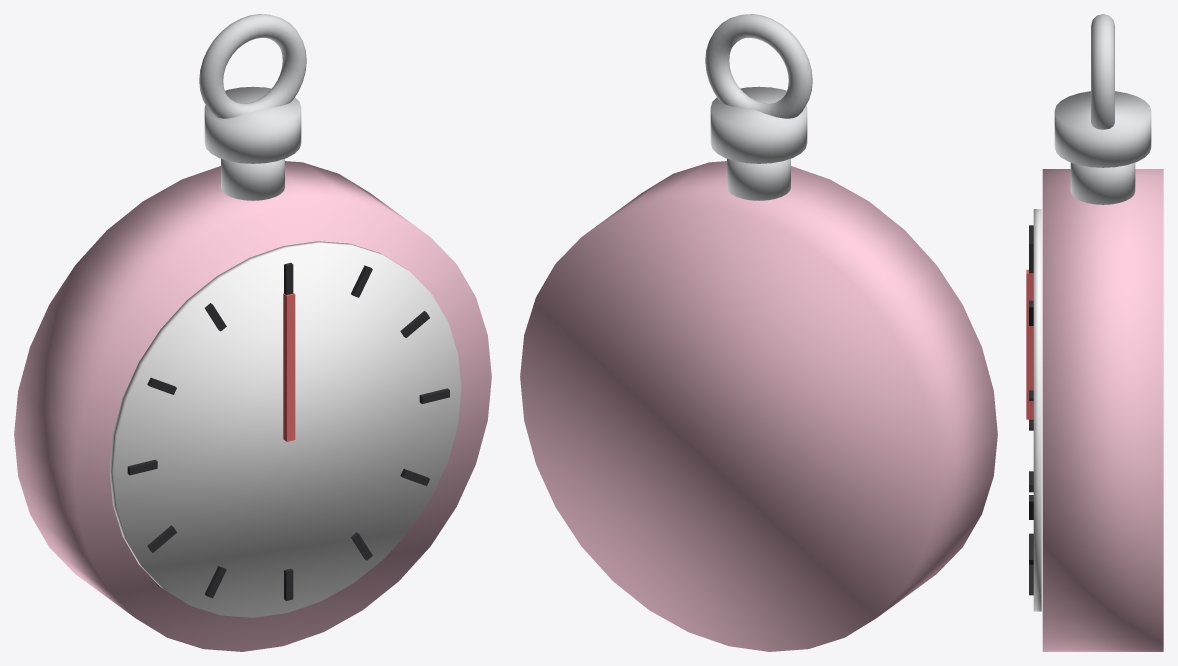
File: stopwatch.glb
3 views of the same model, side by side, from view 1: azimuth 30°, elevation 25°; view 2: azimuth 150°, elevation 25°; view 3: azimuth 270°, elevation 25° (orthographic).
Visible parts, largest first — view 1: sw_face, sw_body, sw_ring, sw_button, sw_crown, sw_hand; view 2: sw_body, sw_ring, sw_button, sw_crown; view 3: sw_body, sw_button, sw_face, sw_ring, sw_crown, sw_hand.
Part boxes in pixels (left/top/right/bottom): sw_face: left=109, top=241, right=461, bottom=617; sw_body: left=14, top=161, right=491, bottom=651; sw_ring: left=199, top=14, right=306, bottom=118; sw_button: left=204, top=86, right=301, bottom=163; sw_crown: left=221, top=158, right=284, bottom=200; sw_hand: left=283, top=293, right=295, bottom=441; sw_body: left=520, top=161, right=997, bottom=651; sw_ring: left=705, top=14, right=812, bottom=118; sw_button: left=710, top=86, right=807, bottom=163; sw_crown: left=727, top=158, right=790, bottom=200; sw_body: left=1042, top=169, right=1163, bottom=651; sw_button: left=1054, top=91, right=1151, bottom=167; sw_face: left=1033, top=209, right=1041, bottom=611; sw_ring: left=1091, top=14, right=1114, bottom=129; sw_crown: left=1070, top=162, right=1135, bottom=204; sw_hand: left=1026, top=269, right=1033, bottom=419.
Size of the model in its own units: 0.06 by 0.0835 by 0.017.
